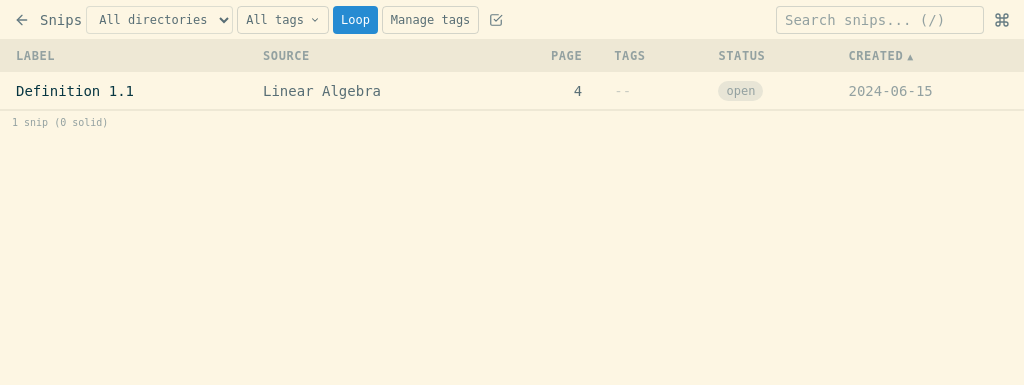
it: SnipsPage › context menu shows "Expand" and "Open in reader" options
Right-click the text "Definition 1.1".
right_click(512, 91)  # box [0,72,1023,110]
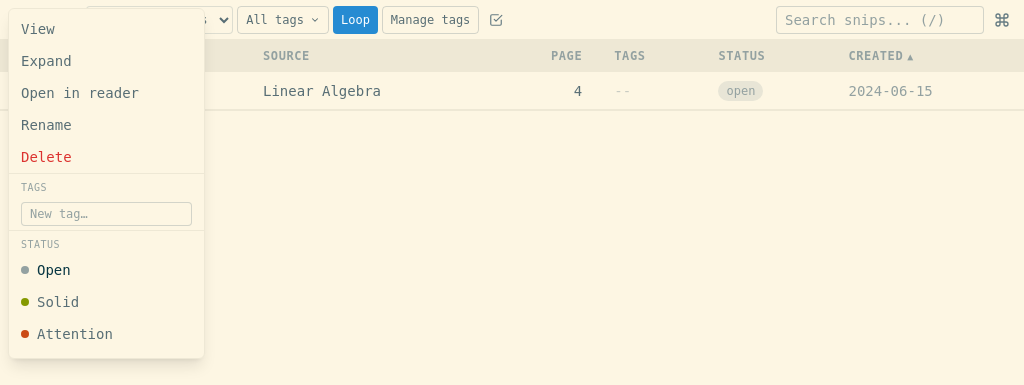
Now the button "Expand" is shown, box [9,45,204,77]
Now the button "Open in reader" is shown, box [9,77,204,109]
Now the button "Rename" is shown, box [9,109,204,141]
